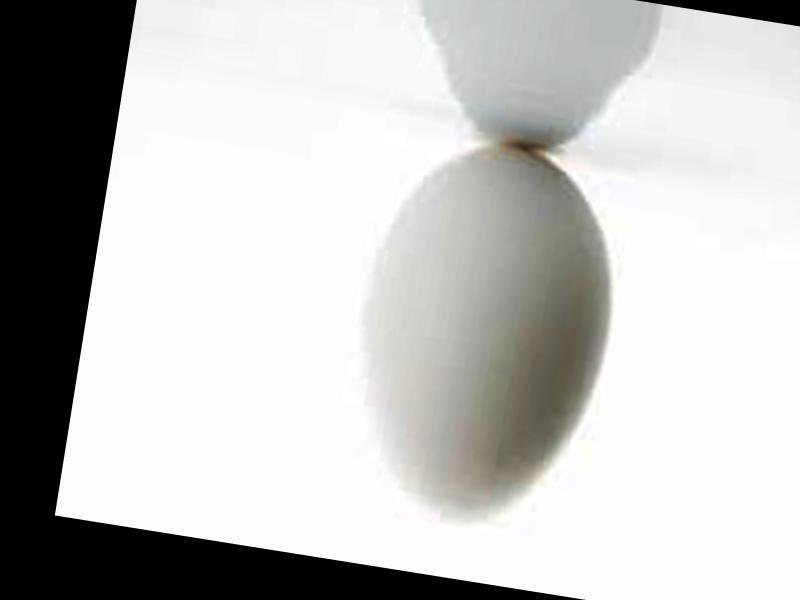Eggs: (342, 128, 634, 537)
